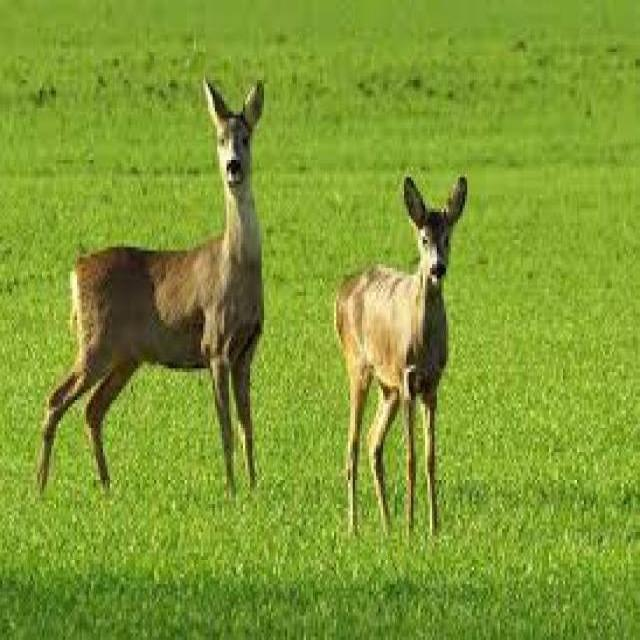deer: (32, 72, 282, 508), (323, 152, 471, 564)
